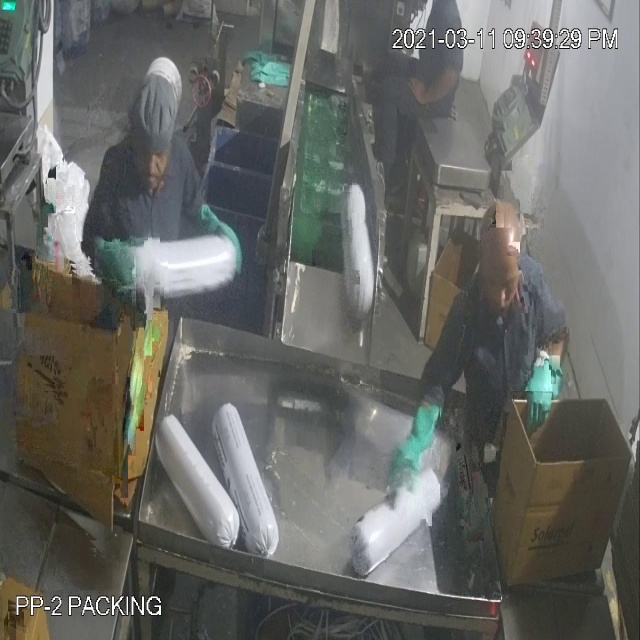Guantes: (381, 382, 458, 504), (520, 348, 570, 443)
Sin_guantes: (408, 58, 472, 115)
